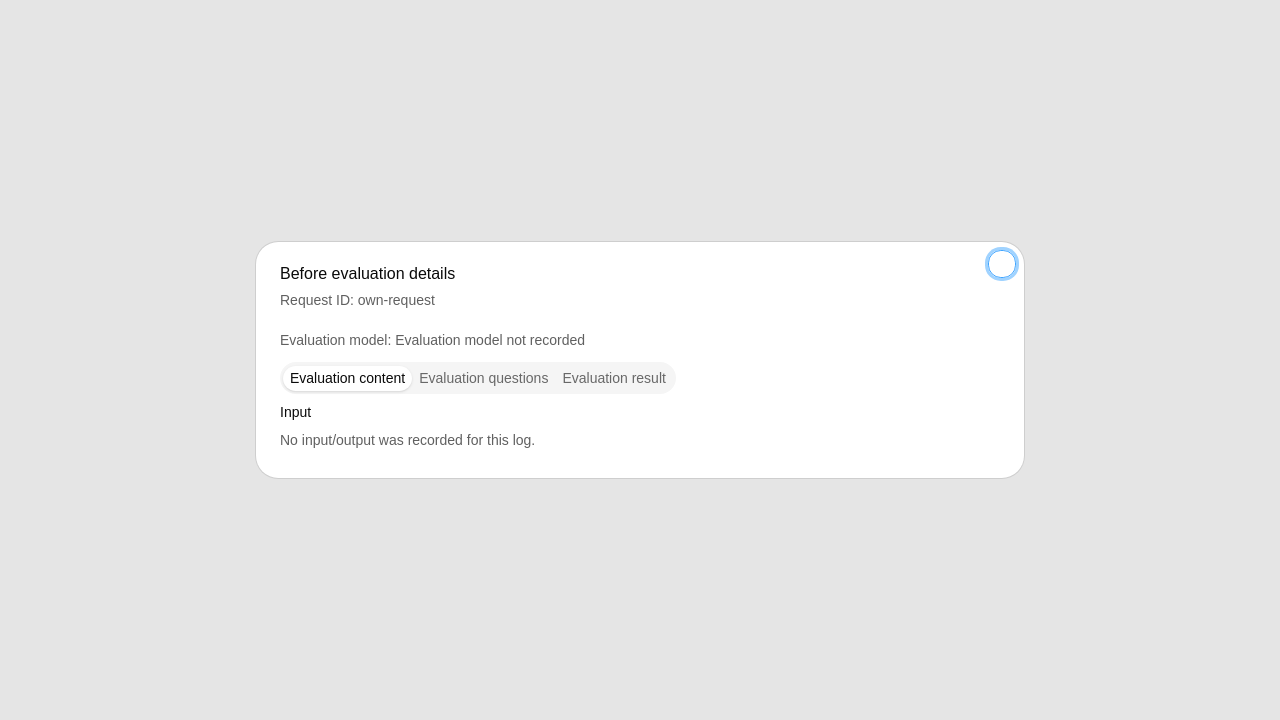
Test case: legacy logs show missing input and preserve saved evaluation answers as a fallback
Expected: the text "No input/output was recorded for this log." is shown, [280,432,535,448]
Step 1. Click the tab "Evaluation result" → (614, 378), box [555,366,673,390]
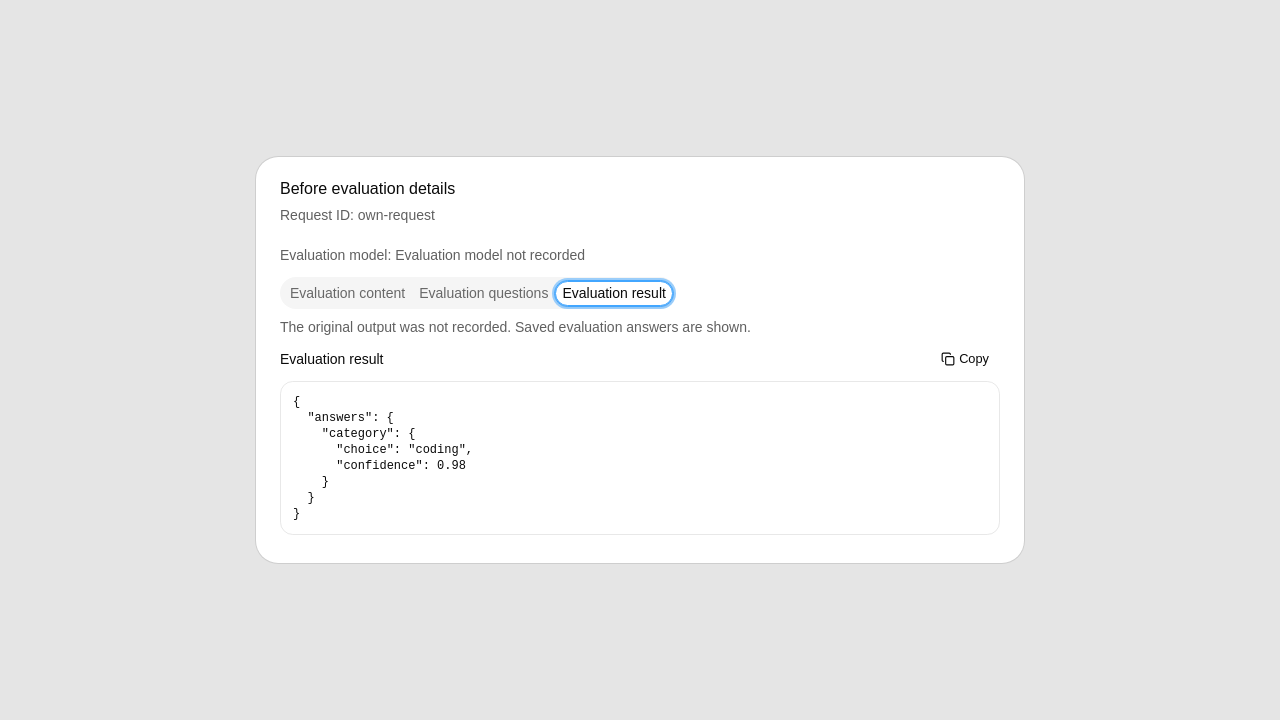
Result: the text "The original output was not recorded. Saved evaluation answers are shown." is shown at [280,319,751,335]
Result: the panel shows "confidence" at [293,395,473,521]
Result: the panel shows "0.98" at [293,395,473,521]
